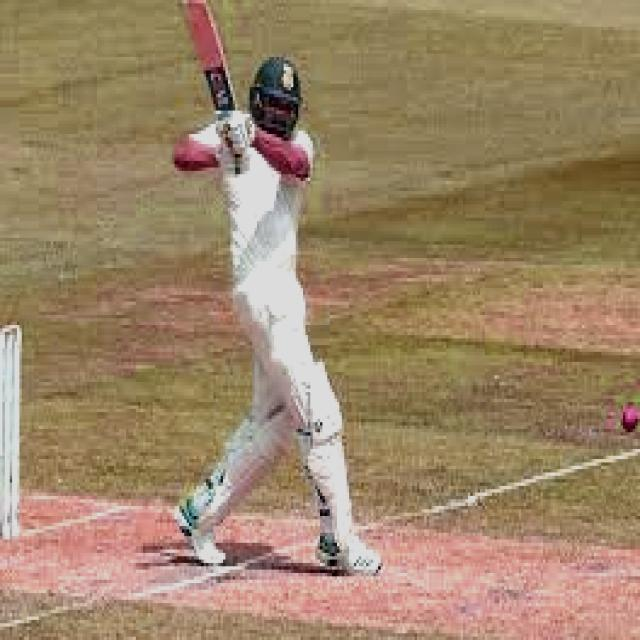toe: (176, 0, 212, 26)
